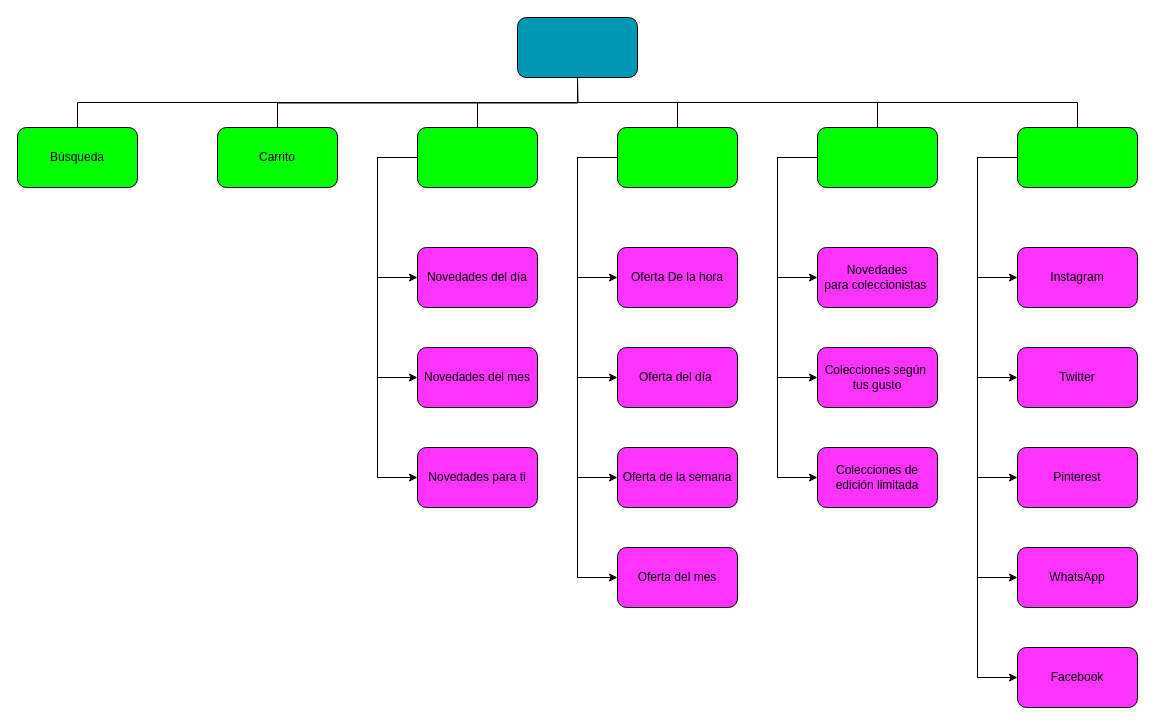
Some shapes in this 1155 by 725 pixel diagram are drawn without their labels. The centre of each missing label's shape, as x and y in pixels:
"Coleccionismo" goes at [877,157].
"Novedades" goes at [477,157].
"Oferta" goes at [677,157].
"TusCD´s (Inicio)" goes at [577,47].
"¿Quiénes somos?" goes at [1077,157].
